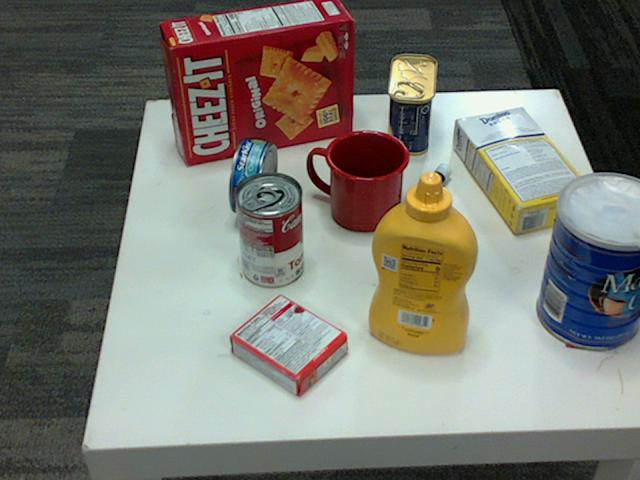cracker_box: (160, 0, 351, 162)
gelatin_box: (226, 294, 344, 398)
large_marker: (392, 167, 452, 230)
master_chef_can: (537, 173, 639, 350)
mug: (307, 128, 409, 230)
mustard_bottle: (368, 172, 478, 354)
potted_meat_can: (385, 55, 434, 155)
sugar_box: (453, 107, 594, 234)
tomato_soup_can: (234, 172, 303, 288)
tuna_fish_can: (227, 137, 277, 216)
